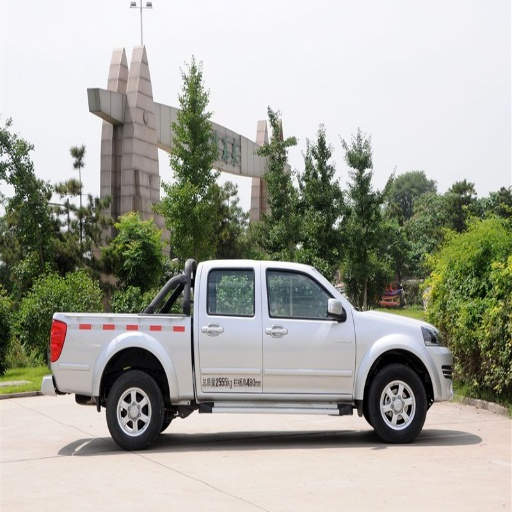back_right_door: (199, 265, 262, 391)
front_right_door: (263, 267, 355, 391)
trunk: (54, 316, 191, 401)
